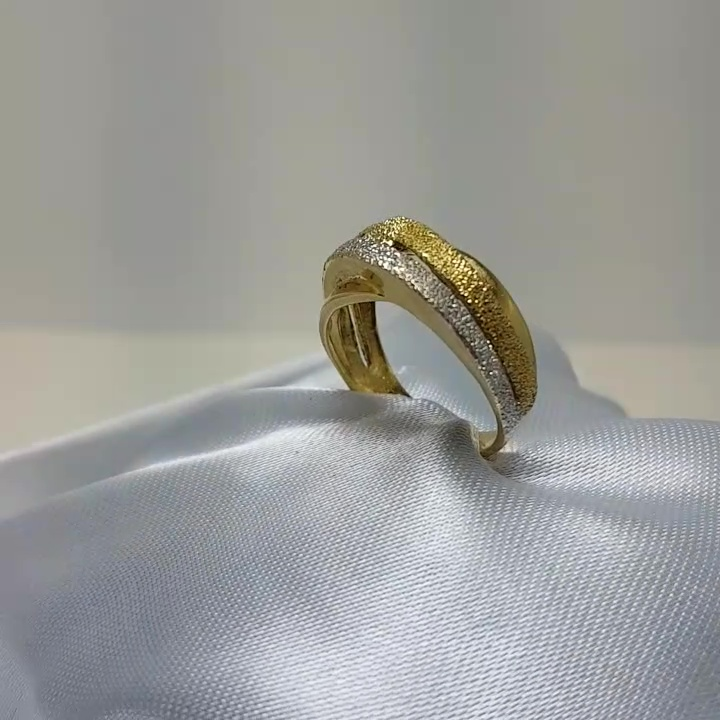Ring 5: (301, 191, 578, 469)
